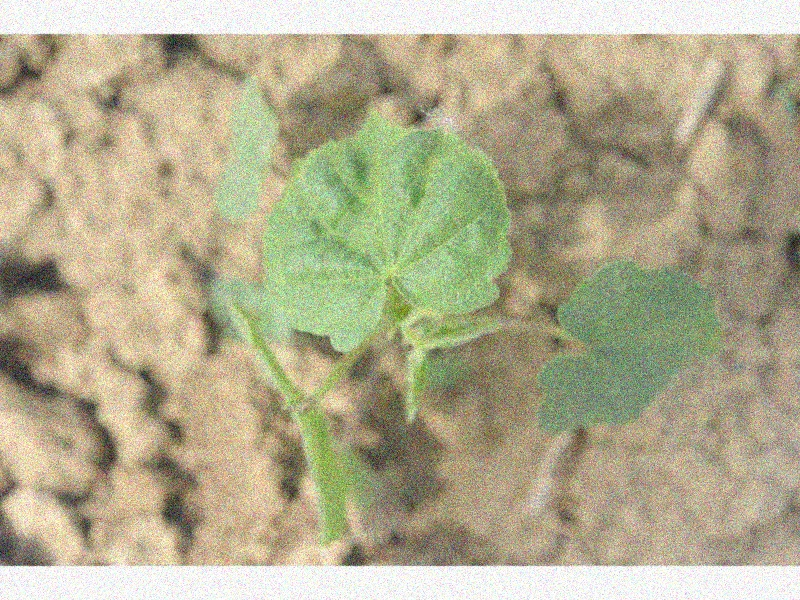velvet: (211, 70, 725, 547)
